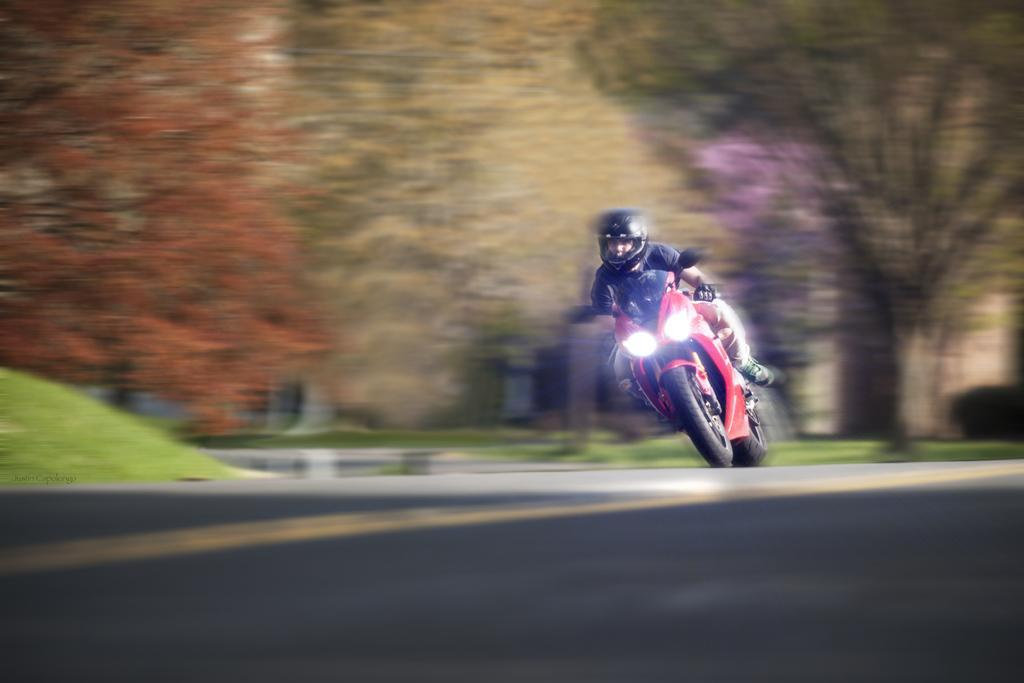helmet: (597, 207, 651, 275)
